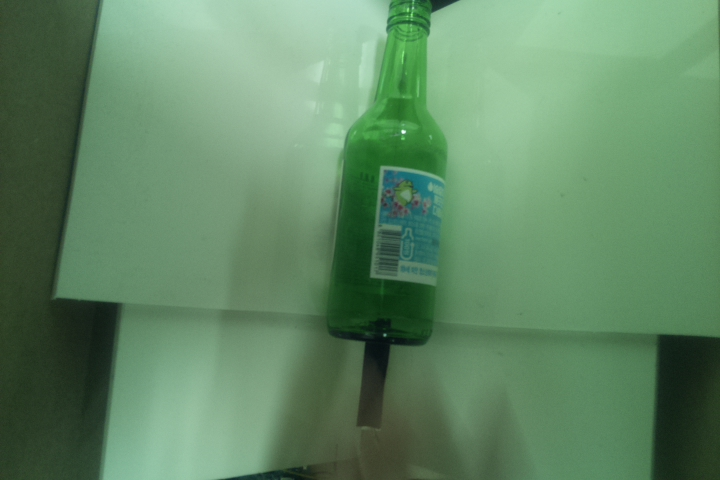soju: (324, 1, 449, 345)
